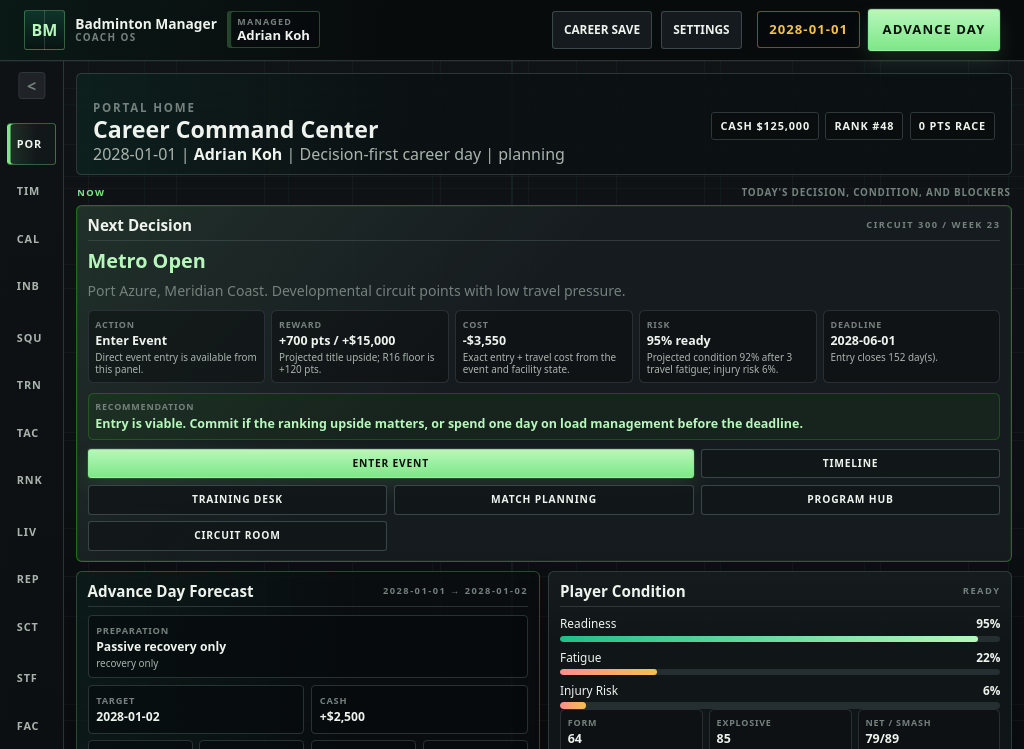
Test: career lifecycle management UI › keeps every finalized season review selectable after later rollovers
Click the button named "Reports" at point(32, 579), box [7,558,56,600]
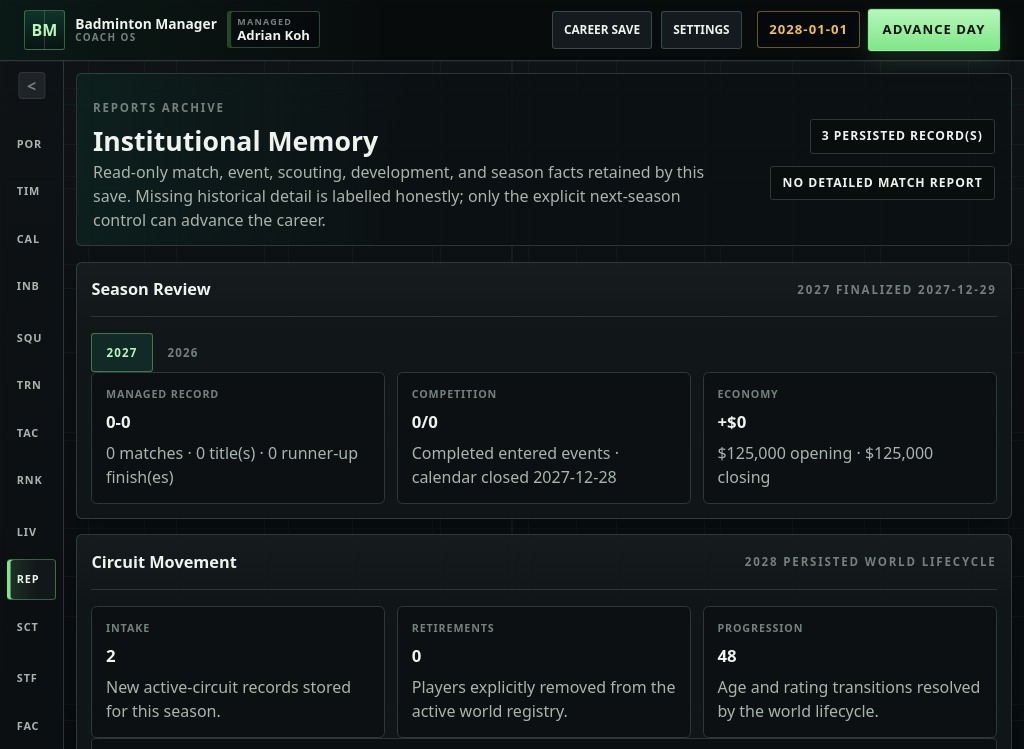
Click the tab "2026" at point(183, 352), box [152,333,214,372]
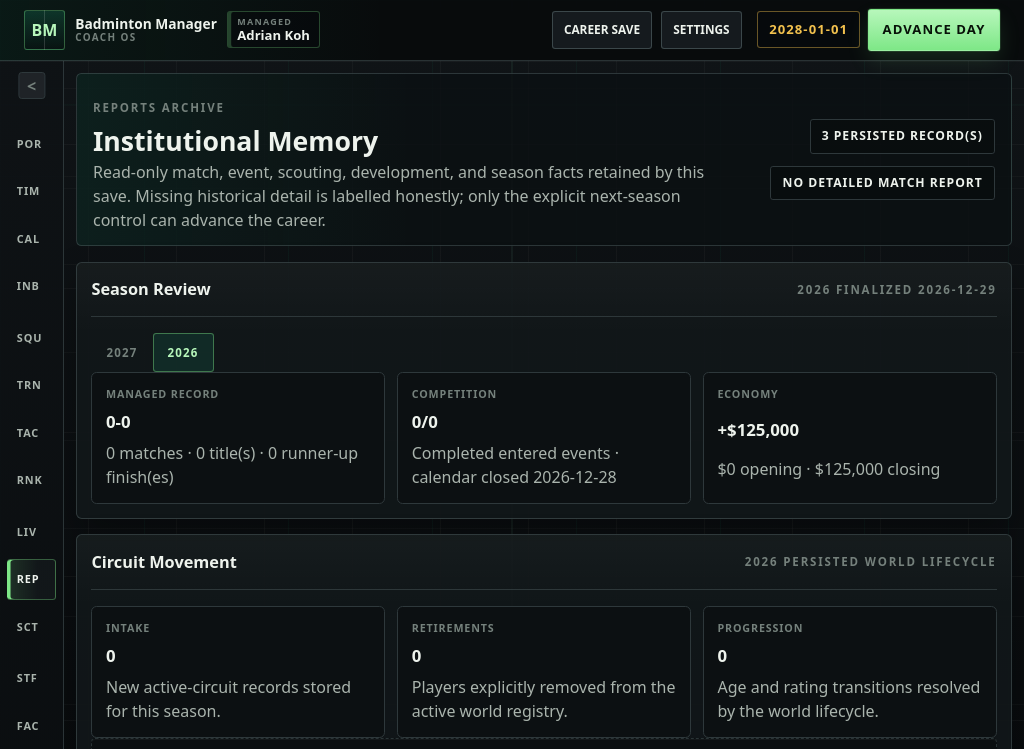
Expected: the text "2026 finalized 2026-12-29" is shown, [797,280,997,298]
